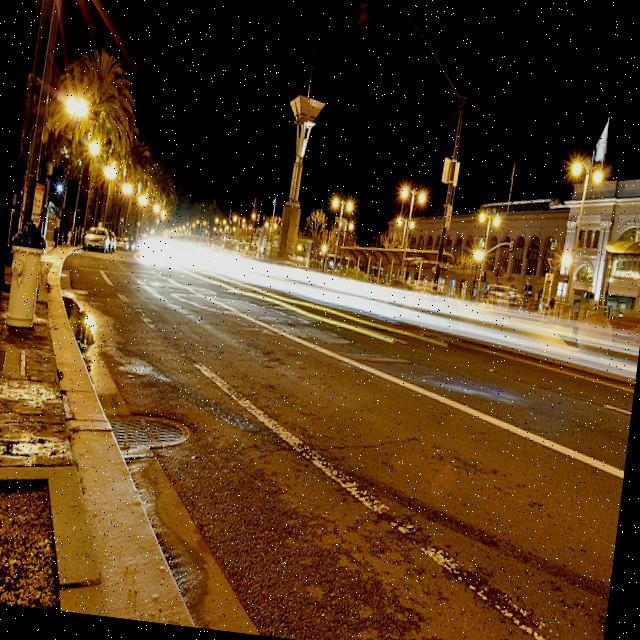fire_hydrant: (0, 218, 56, 341), (64, 228, 72, 244)
